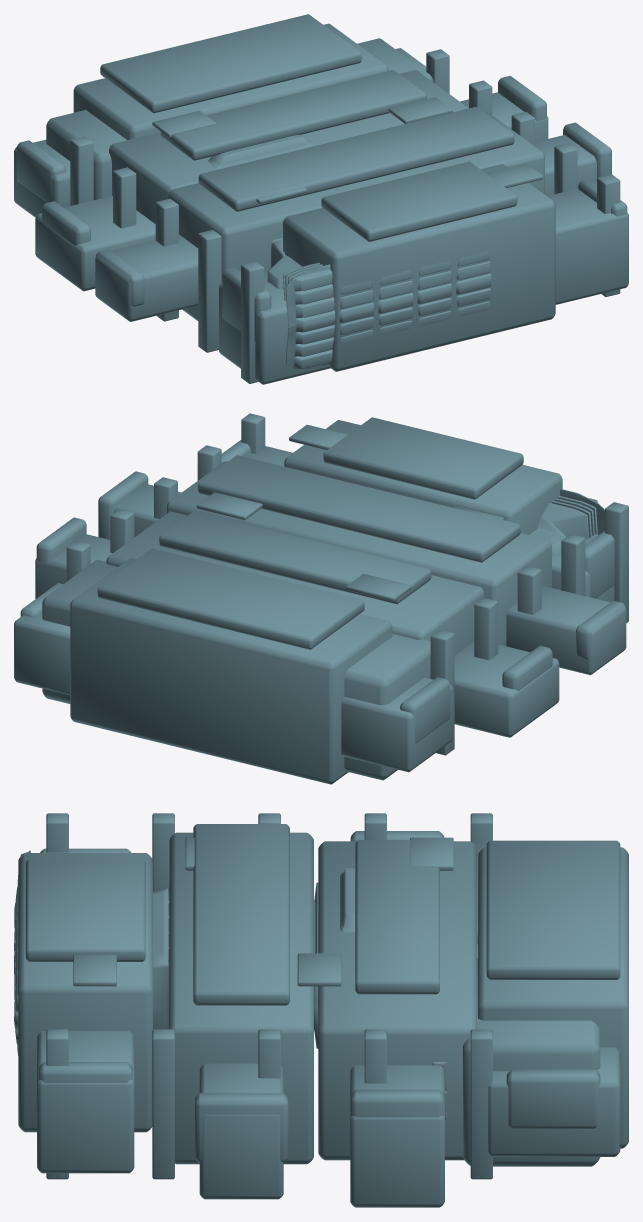
File: saucer_01.fbx
3 views of the same model, one above another, from view 1: azimuth 30°, elevation 25°; view 2: azimuth 150°, elevation 25°; view 3: azimuth 270°, elevation 25° (orthographic). The views are drawn at different scales.
Visible parts, largest first — view 1: Render_LOD0; view 2: Render_LOD0; view 3: Render_LOD0.
Boxes of the visible parts, bbox=[...] form: Render_LOD0: bbox=[14, 14, 628, 384]; Render_LOD0: bbox=[14, 413, 628, 784]; Render_LOD0: bbox=[14, 813, 628, 1207].
Size of what is drawn, in the model's own units: 5.2 by 1.4 by 4.6.
